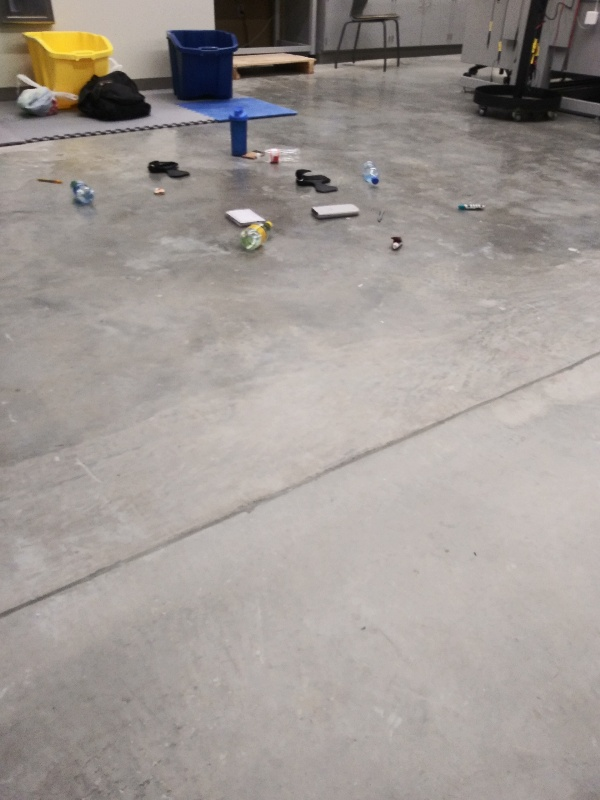bottle: (238, 219, 276, 253), (253, 146, 304, 168), (68, 176, 97, 208), (358, 156, 383, 191)
